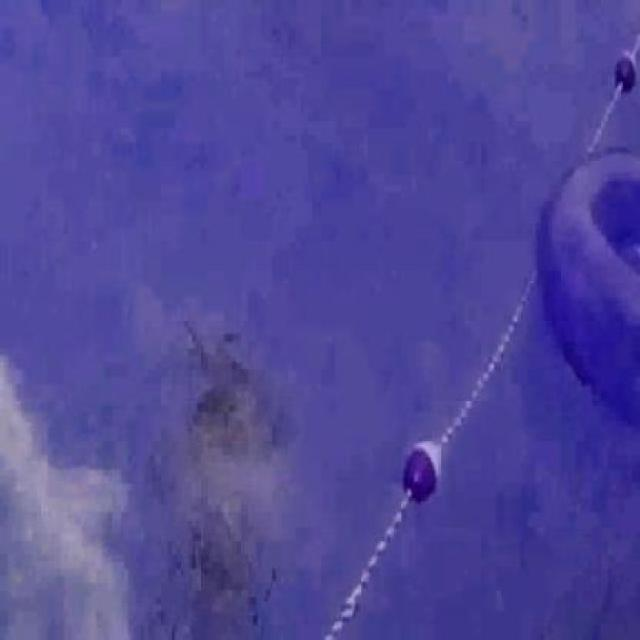drowning: (171, 337, 266, 640)
